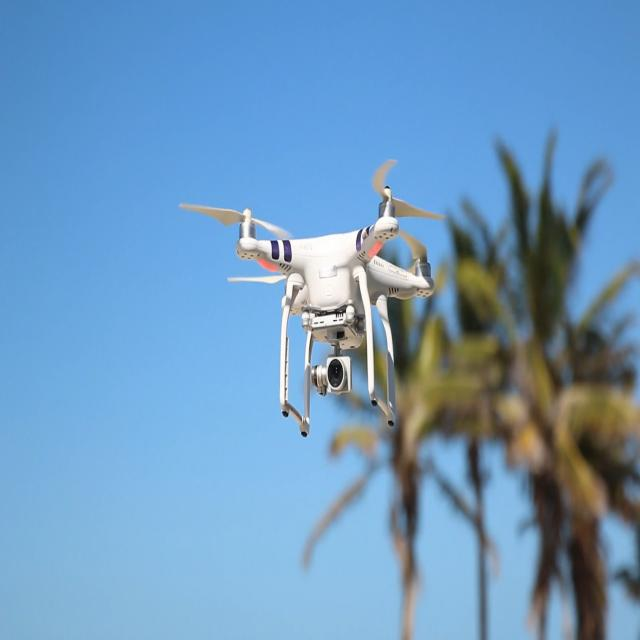Drone: (171, 169, 470, 440)
